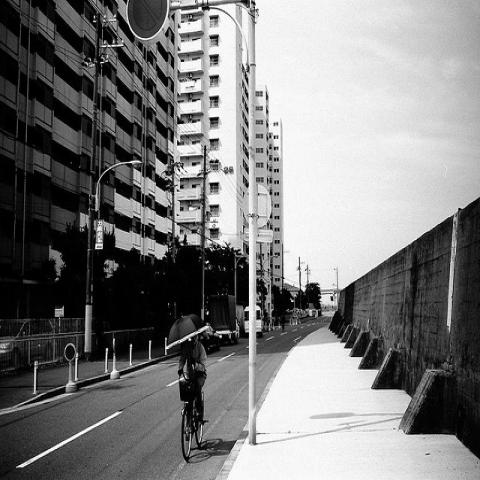bus: (243, 306, 264, 334)
car: (2, 318, 56, 372), (203, 323, 222, 352)
truck: (211, 295, 240, 344), (243, 306, 263, 335)
